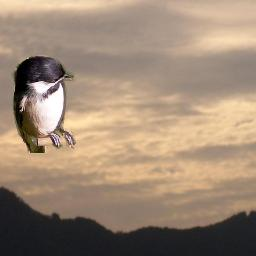Swallow: (11, 53, 78, 153)
